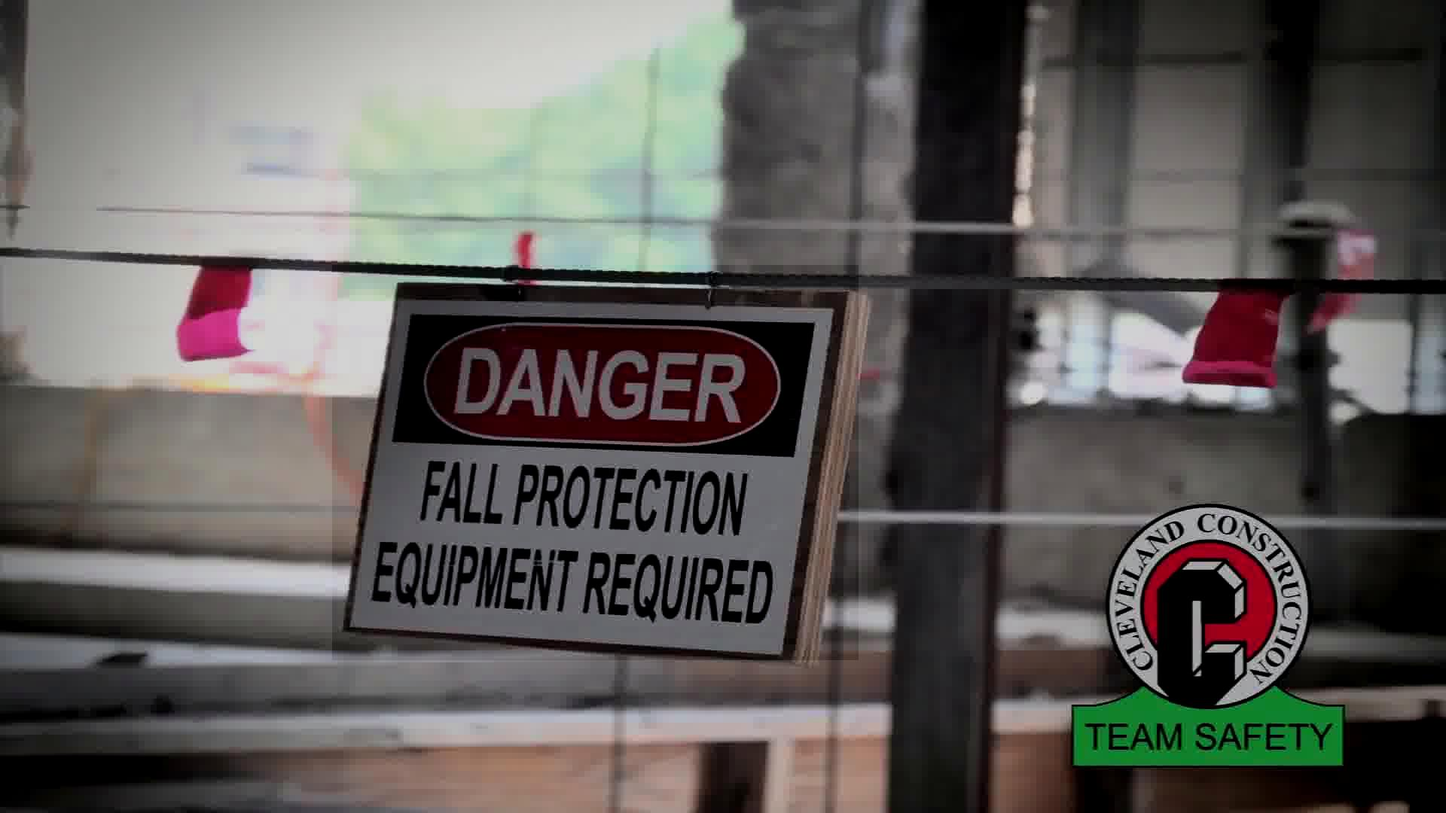safety_signage: (332, 265, 859, 660)
